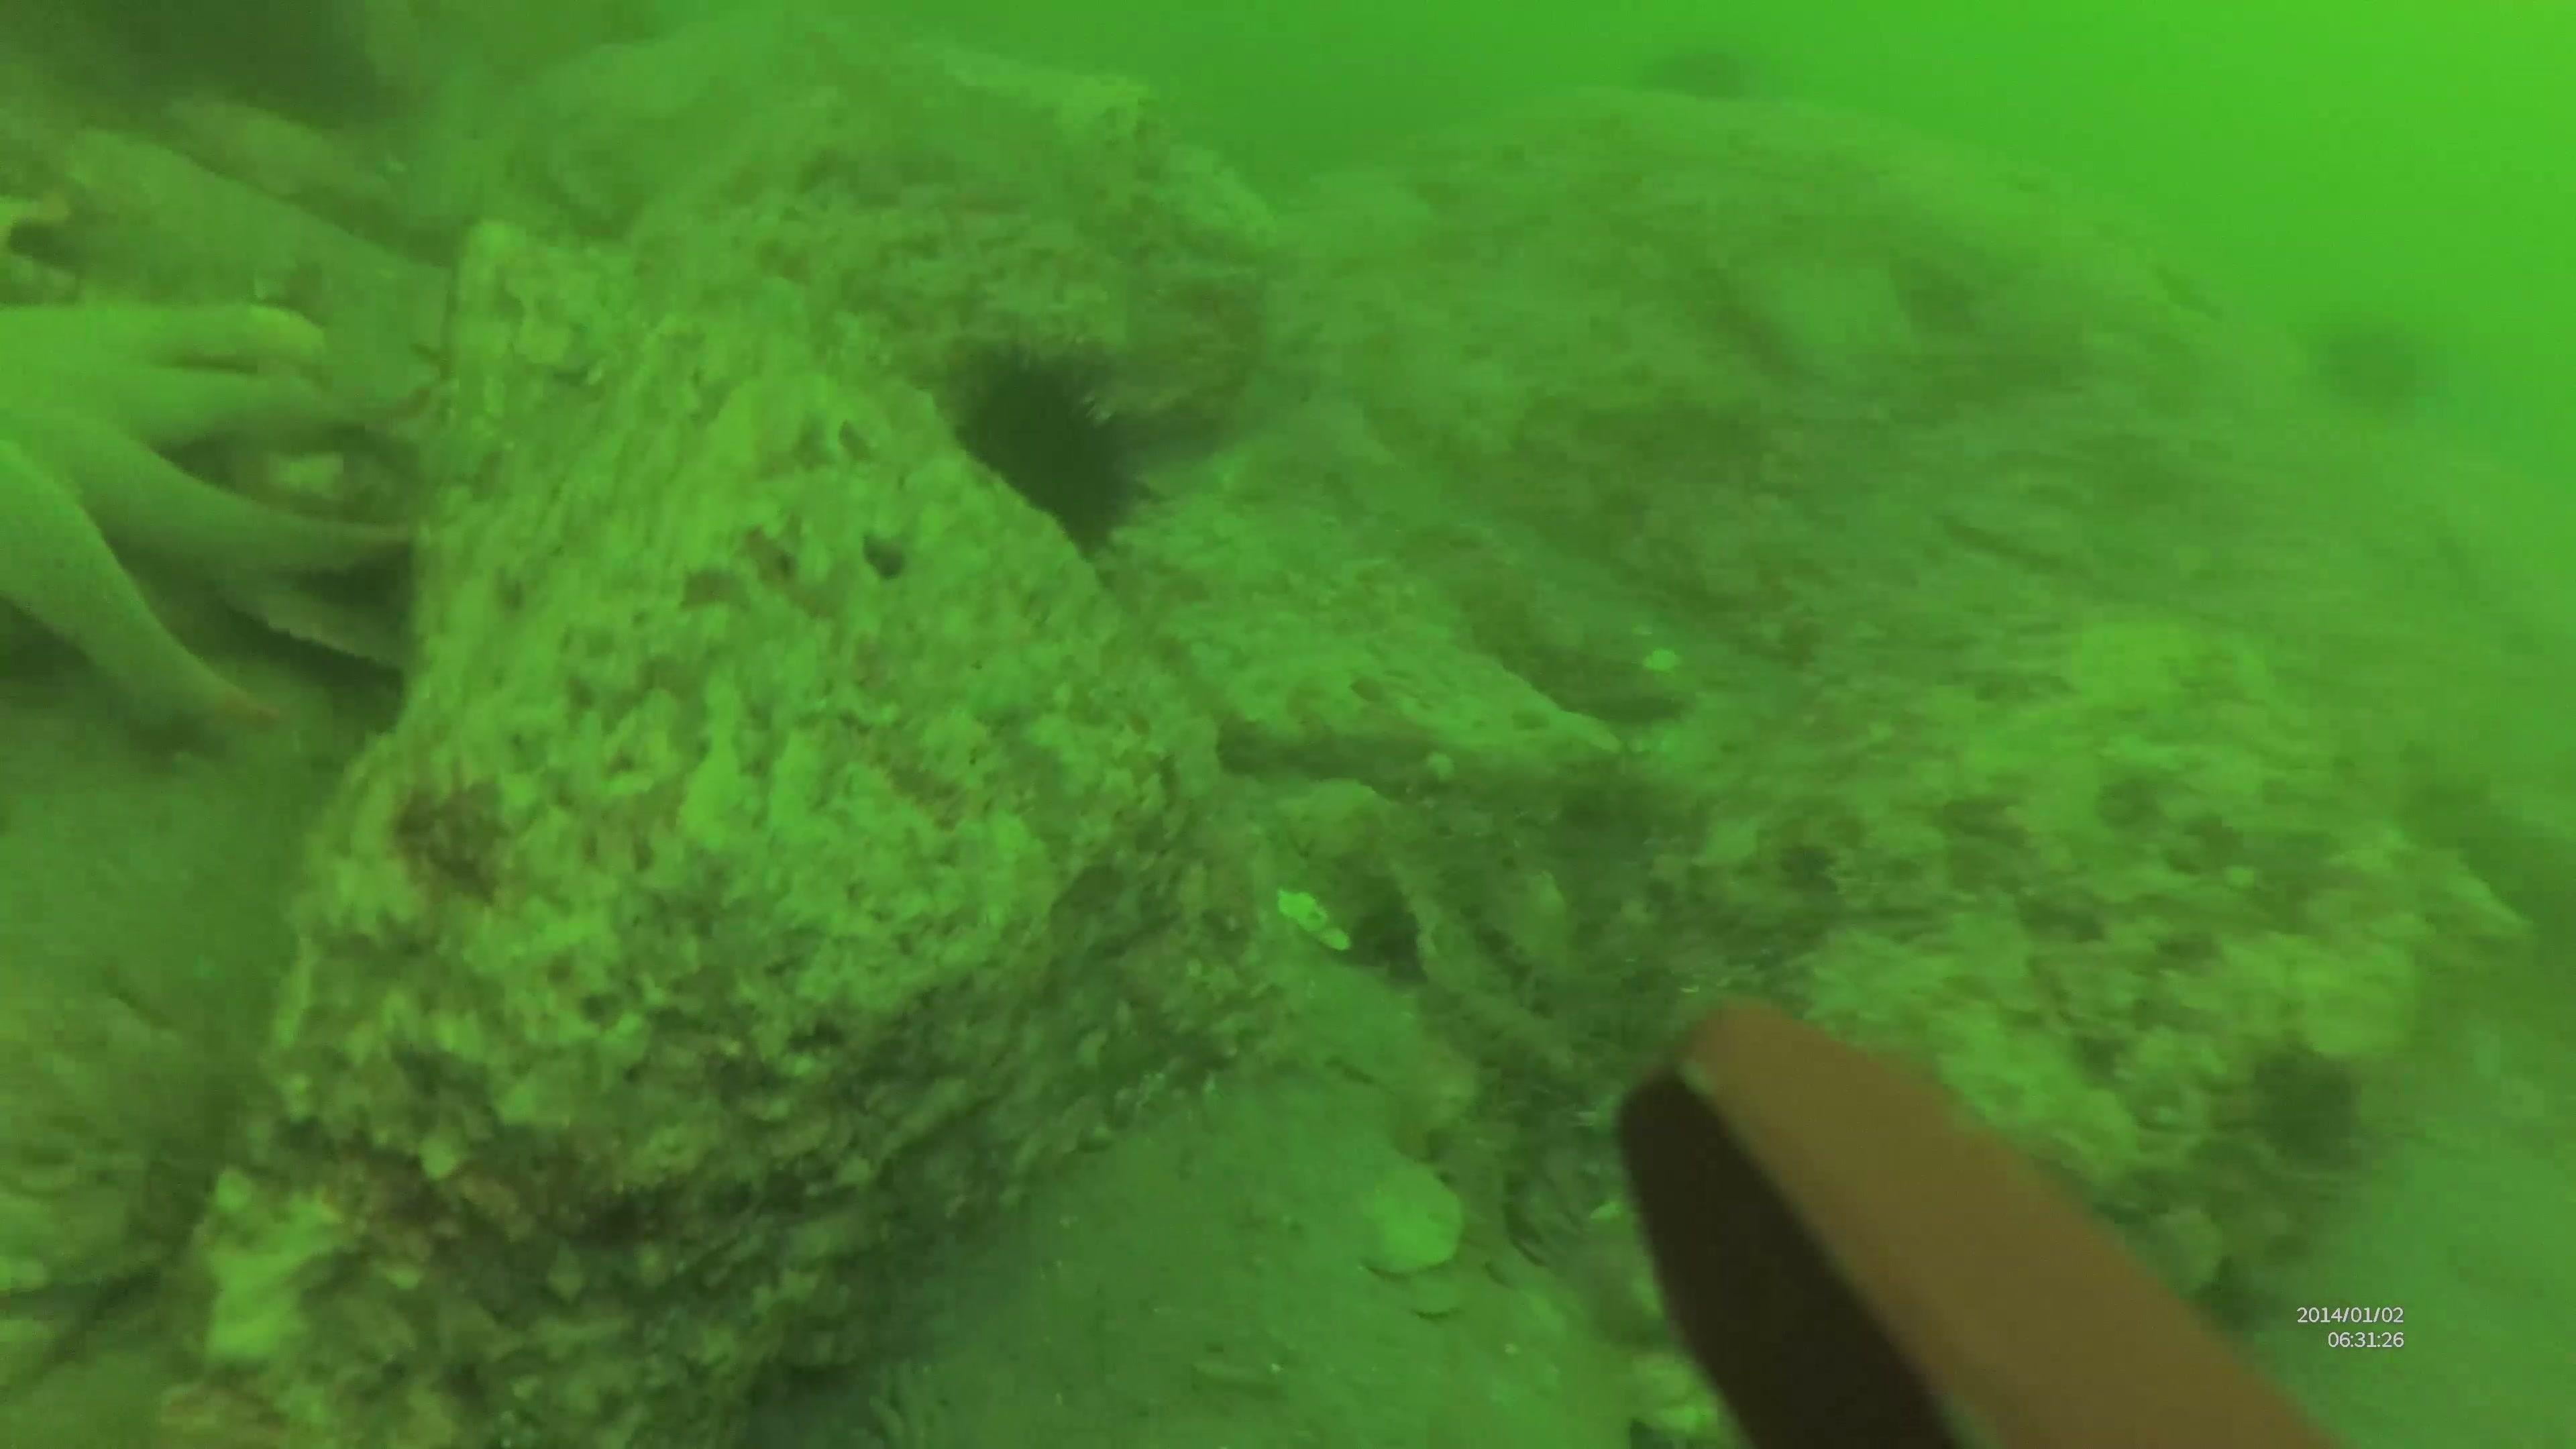echinus: (955, 341, 1162, 559), (2265, 1037, 2364, 1166)
scallop: (1364, 1161, 1470, 1293)
